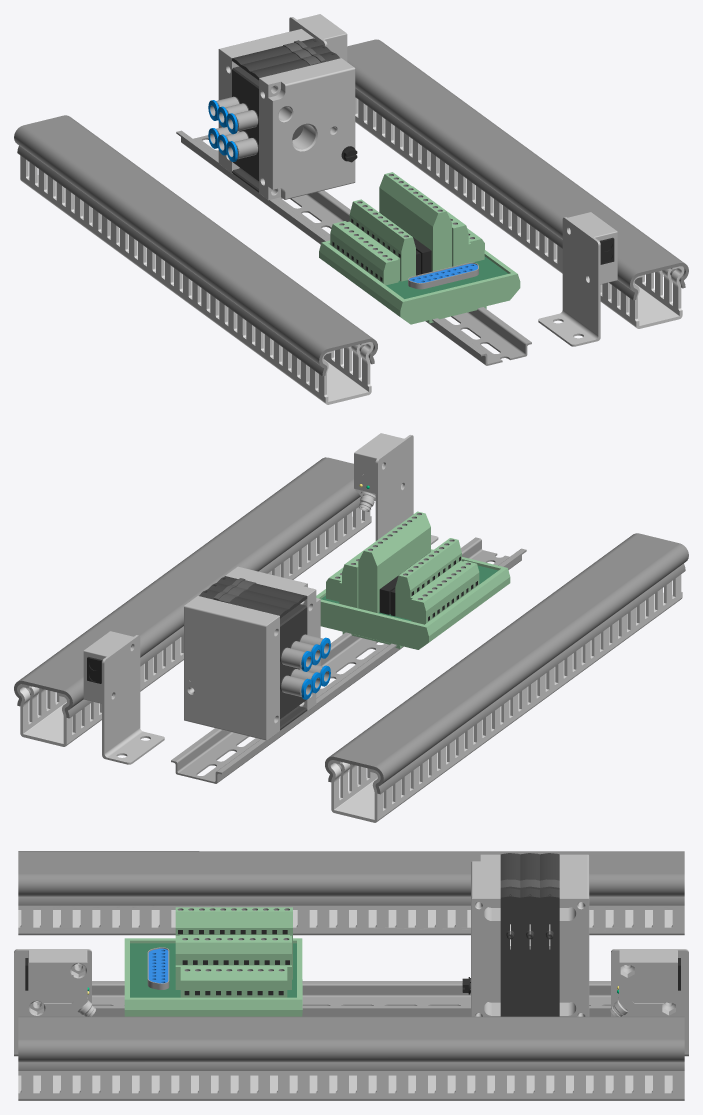
File: Verteiler_vorne.fbx
The picture shows the model from 3 angles, top to bottom: view 1: azimuth 30°, elevation 25°; view 2: azimuth 150°, elevation 25°; view 3: azimuth 270°, elevation 25°; orthographic projection. The views are drawn at different scales.
Visible parts, largest first — view 1: et_0105_Kabelfuerung_body1; view 2: et_0105_Kabelfuerung_body1; view 3: et_0105_Kabelfuerung_body1.
Part boxes in pixels (box(x1,y1,x2,y2)): et_0105_Kabelfuerung_body1: box(14, 14, 688, 404); et_0105_Kabelfuerung_body1: box(14, 433, 688, 822); et_0105_Kabelfuerung_body1: box(14, 851, 688, 1100).
Size of the model in its own units: 23.62 by 8 by 34.2.
